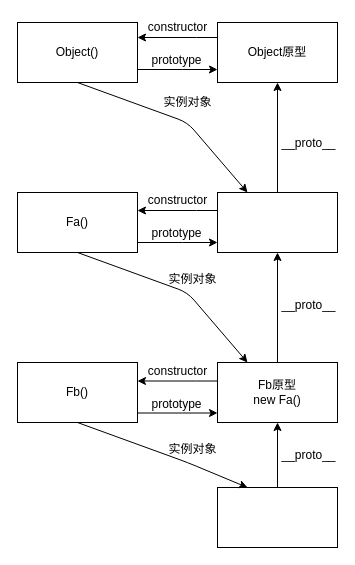
This 355x565 diagram has some shape labels left out. Here are the shapes that lost their labels. From the top down, the box of each, then its label:
(216, 192, 338, 252): Fa原型 new Object()
(216, 486, 338, 548): b=new Fb()
